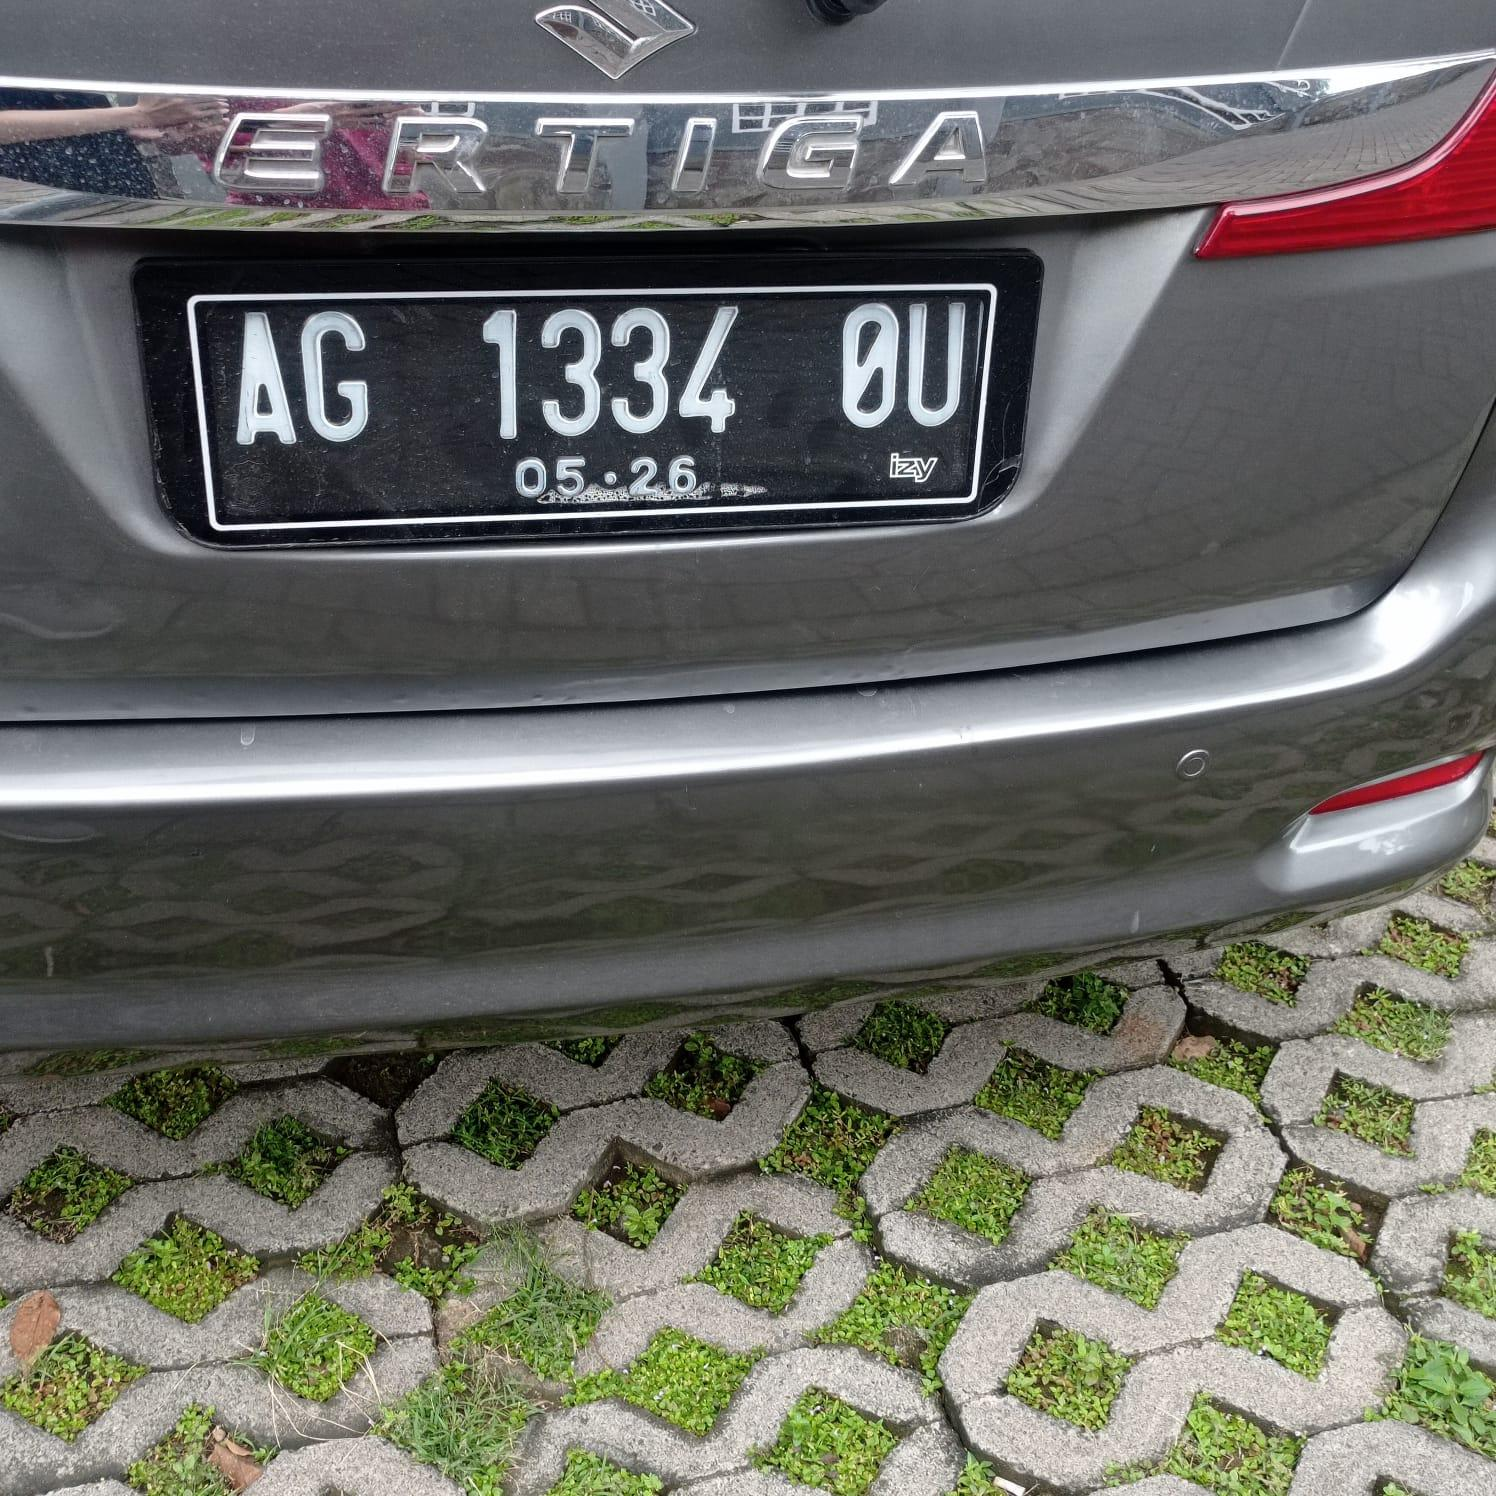plat: (137, 255, 1040, 544)
